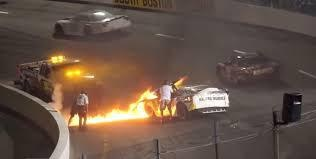fire: (67, 85, 180, 124)
